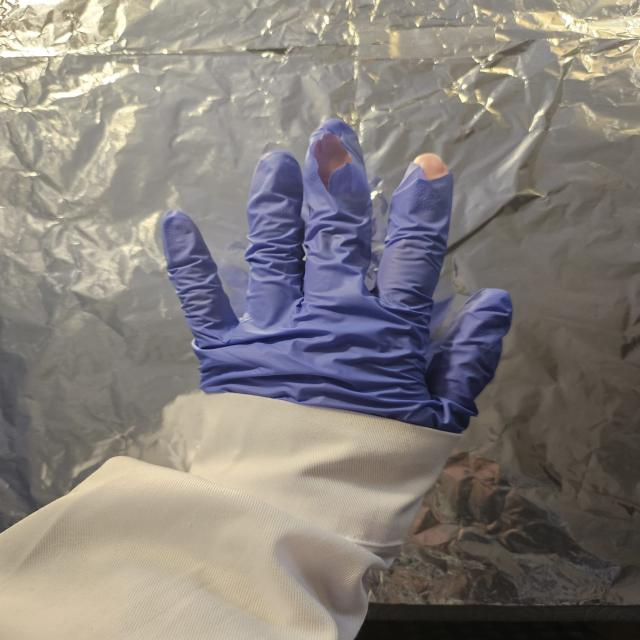gloves_damaged: (151, 115, 517, 436)
